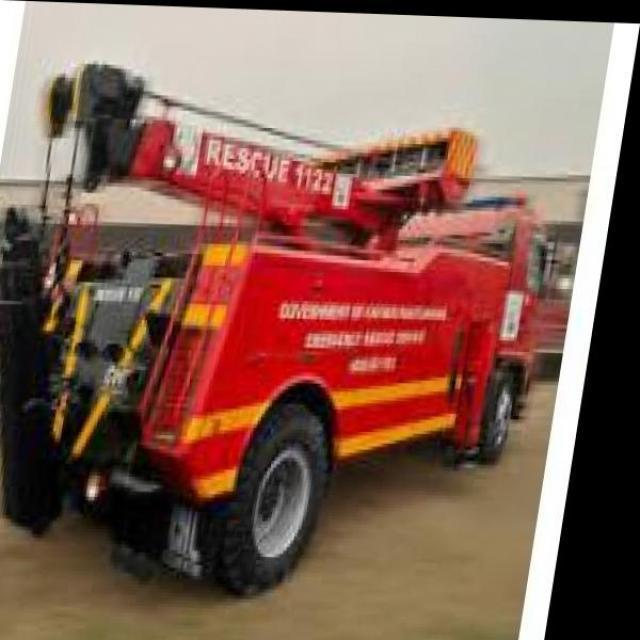emergency: (2, 59, 562, 596)
